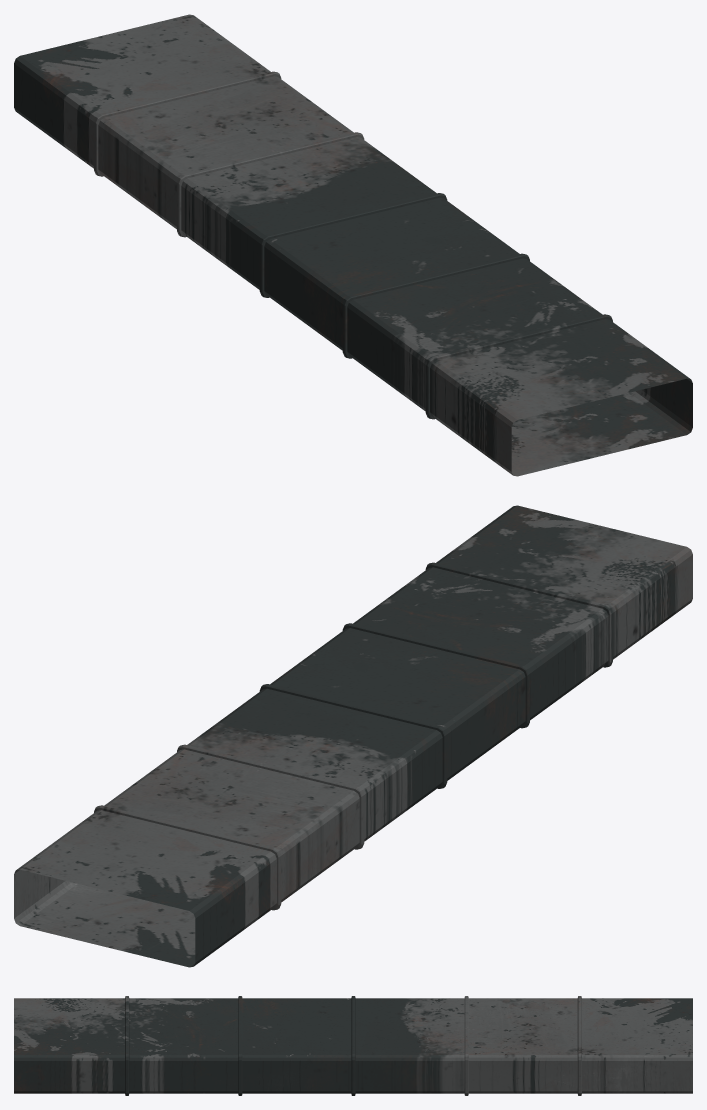
File: Vent4.fbx
3 views of the same model, one above another, from view 1: azimuth 30°, elevation 25°; view 2: azimuth 150°, elevation 25°; view 3: azimuth 270°, elevation 25° (orthographic). The views are drawn at different scales.
Parts seen in each view (by area): view 1: vent4; view 2: vent4; view 3: vent4.
Boxes of the visible parts, x1,y1,x2,y2 form: vent4: (14,14,692,476); vent4: (14,505,692,967); vent4: (14,996,692,1095).
Size of the model in its own units: 825 by 262 by 3835.
1 material, 1 textured.
